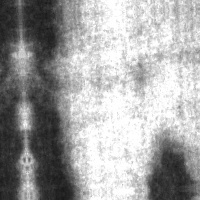patches: (24, 55, 67, 196), (21, 16, 67, 67), (147, 143, 186, 191)
